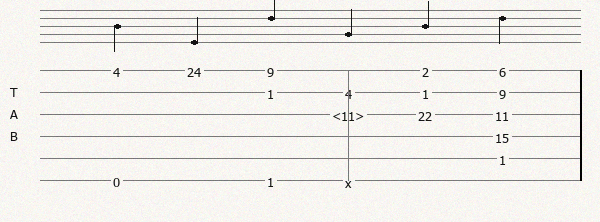0: (113, 174, 124, 187)
1: (267, 174, 278, 187), (267, 86, 278, 99), (422, 86, 433, 99), (499, 152, 510, 165)
11: (495, 108, 513, 121)
15: (495, 130, 513, 143)
2: (422, 64, 433, 77)
22: (418, 108, 436, 121)
24: (187, 64, 205, 77)
4: (113, 64, 124, 77), (345, 86, 356, 99)
6: (499, 64, 510, 77)
9: (267, 64, 278, 77), (499, 86, 510, 99)
harmonic: (332, 108, 368, 121)
x: (345, 175, 356, 186)
